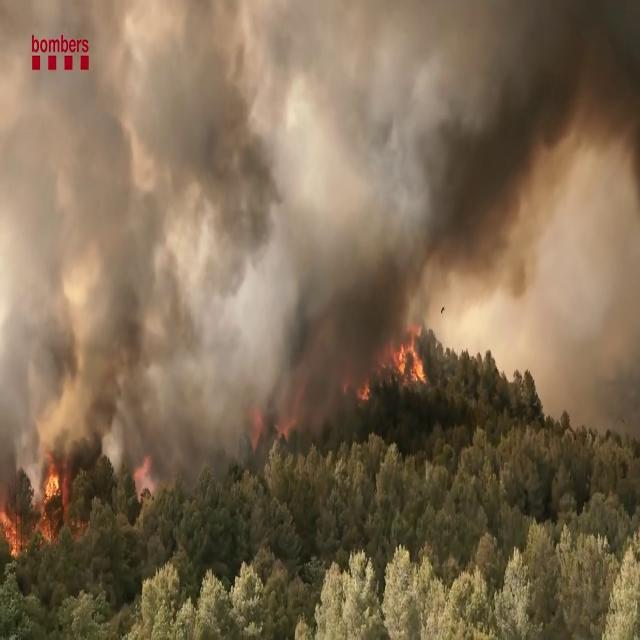Fire: (386, 328, 429, 390), (0, 480, 24, 565), (40, 458, 66, 522)
Smoke: (0, 2, 640, 458)
